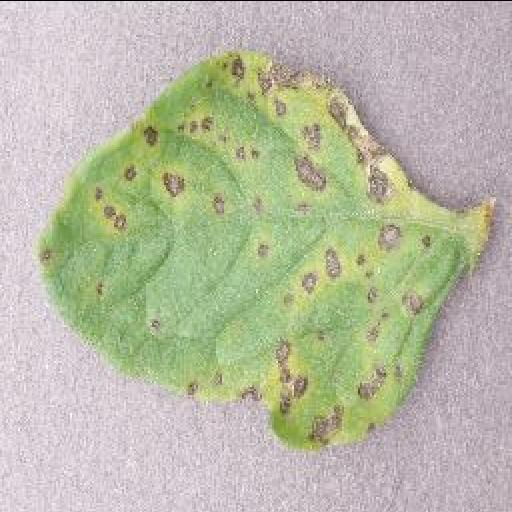disease_tomato: (34, 48, 492, 452)
